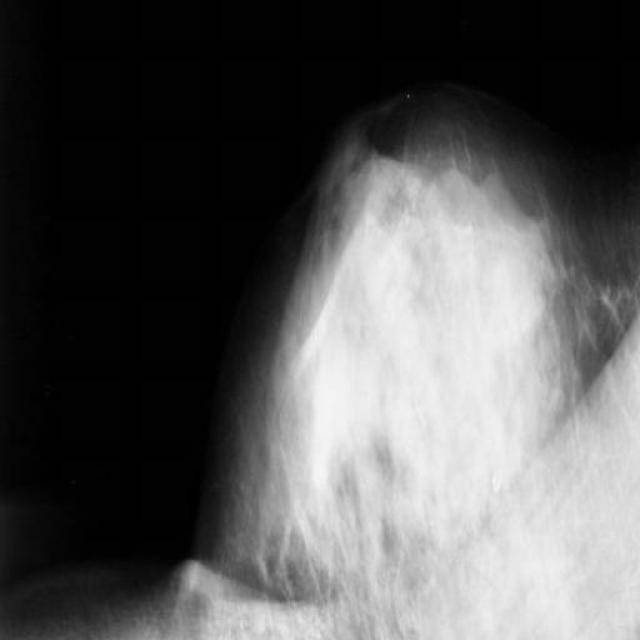cancer: (317, 496, 353, 578)
